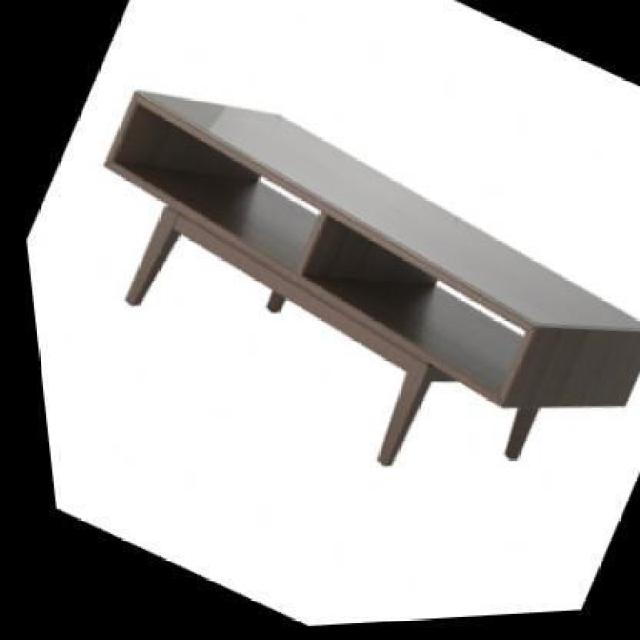tables: (101, 86, 638, 466)
